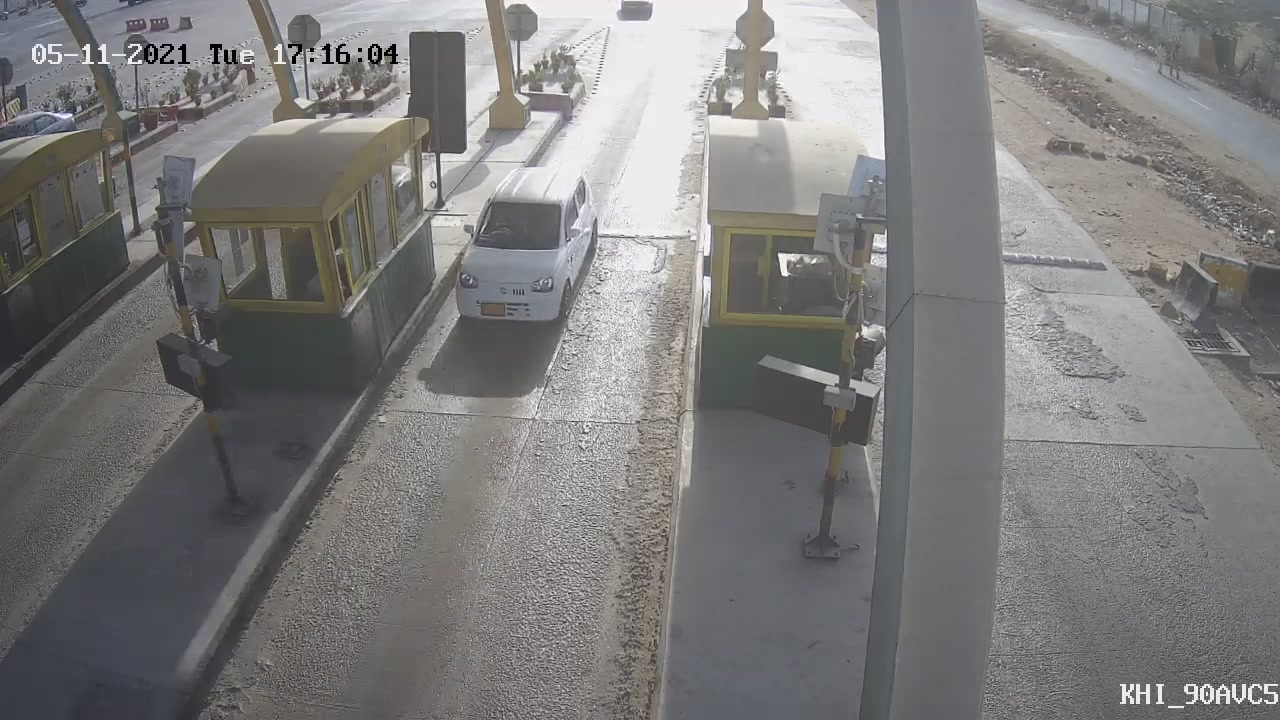F1: (435, 155, 612, 352)
